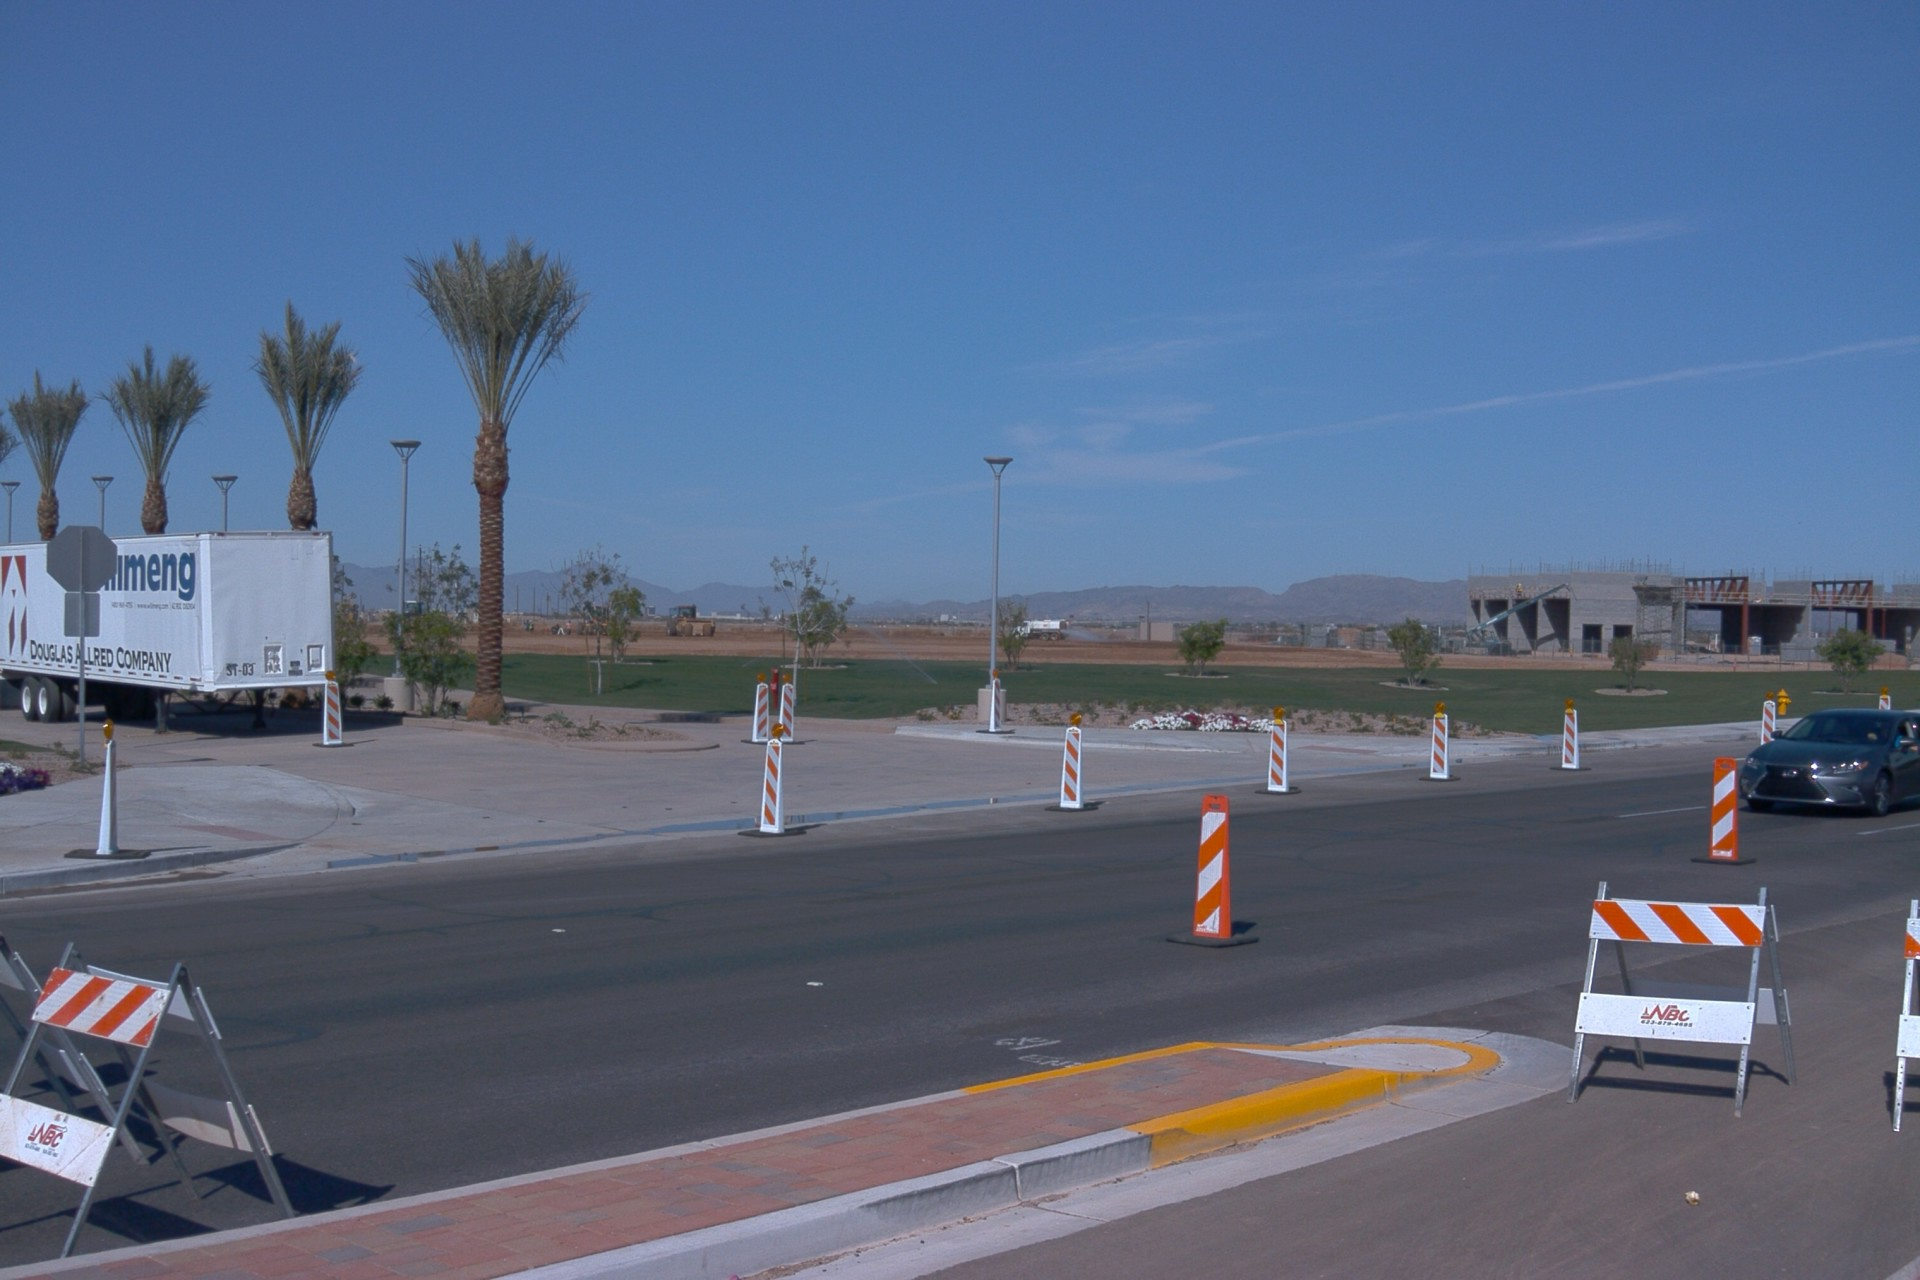TYPE_PEDESTRIAN: (565, 621, 573, 636), (528, 619, 534, 633)
TYPE_VEHICLE: (0, 530, 341, 729), (1738, 705, 1920, 817), (1464, 585, 1574, 650), (405, 598, 451, 631), (1008, 619, 1068, 640), (339, 604, 356, 622)
